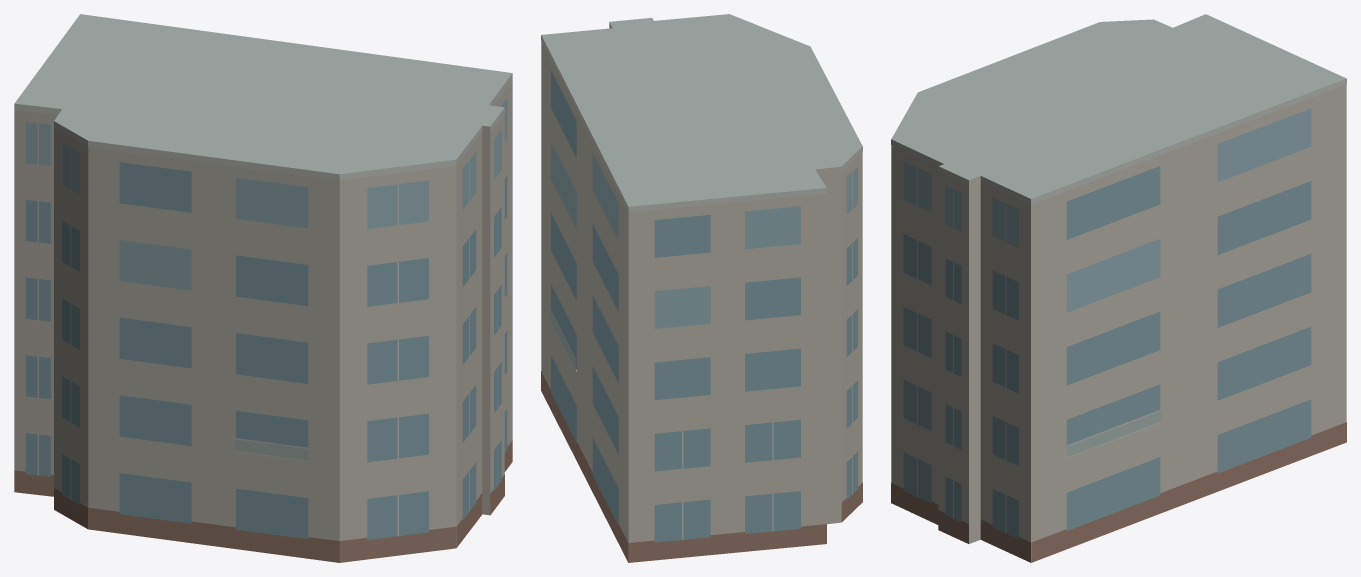
File: survey-upis-32610749.glb
3 renders of one model, left to right at view 1: azimuth 30°, elevation 25°; view 2: azimuth 150°, elevation 25°; view 3: azimuth 270°, elevation 25°, orthographic. The views are drawn at different scales.
Parts seen in each view (by area): view 1: survey-upis-32610749.tmp; view 2: survey-upis-32610749.tmp; view 3: survey-upis-32610749.tmp.
Part boxes in pixels (bbox=[...]): survey-upis-32610749.tmp: bbox=[14, 14, 512, 562]; survey-upis-32610749.tmp: bbox=[541, 14, 862, 562]; survey-upis-32610749.tmp: bbox=[891, 14, 1346, 562].
Bounding box in the file's own units: 16.64 × 15.25 × 17.31.
